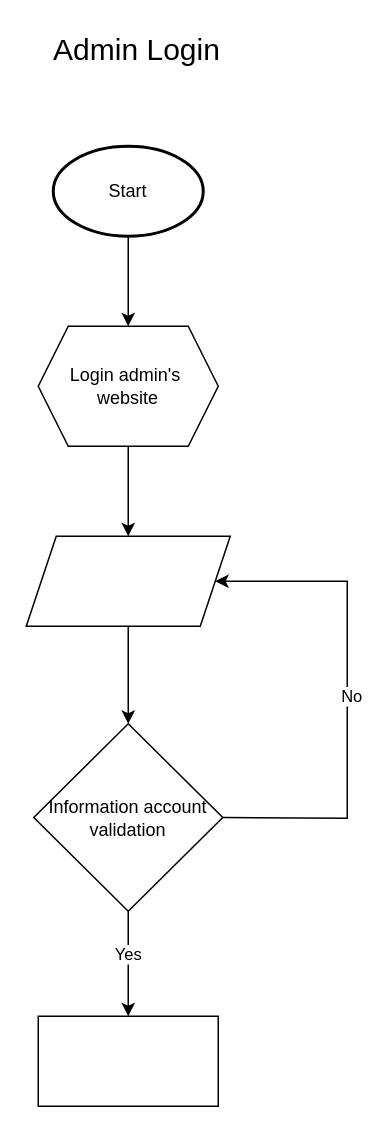
This 387x1133 diagram has some shape labels left out. Here are the shapes that lost their labels. From the top down, the box of each, then its label:
(25, 535, 230, 626): Enter information account (email, password)
(37, 1015, 218, 1106): Go to admin's homepage
